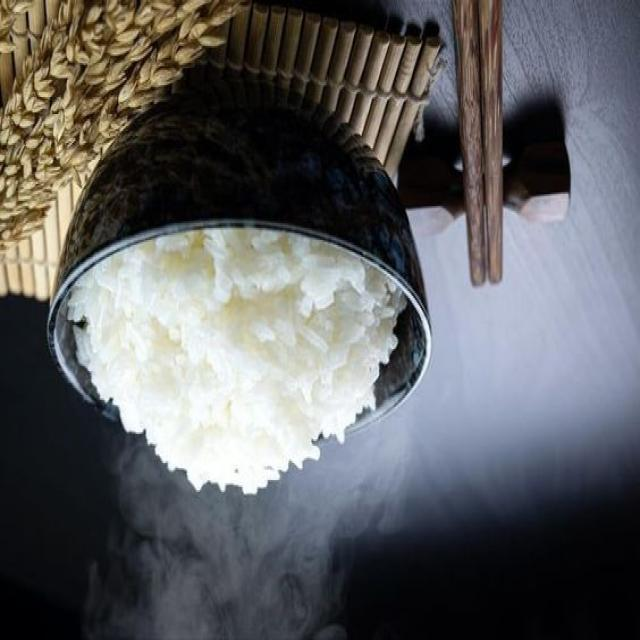nasi_putih: (52, 214, 417, 510)
